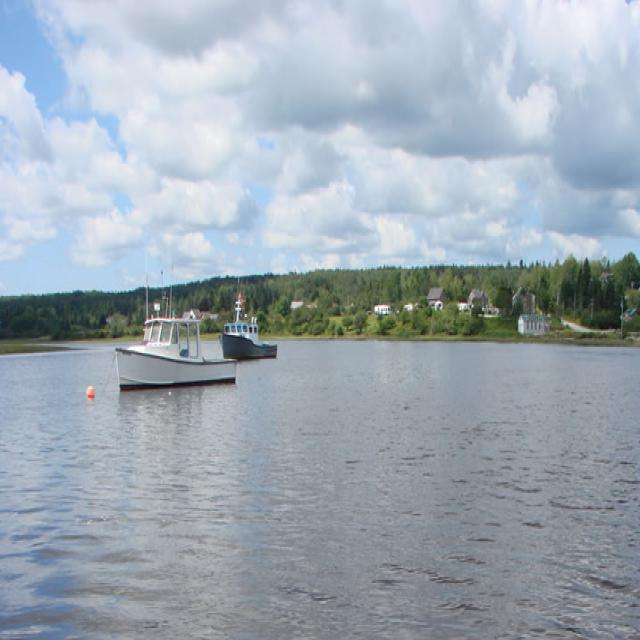houseboat: (114, 306, 238, 396), (223, 296, 269, 364)
